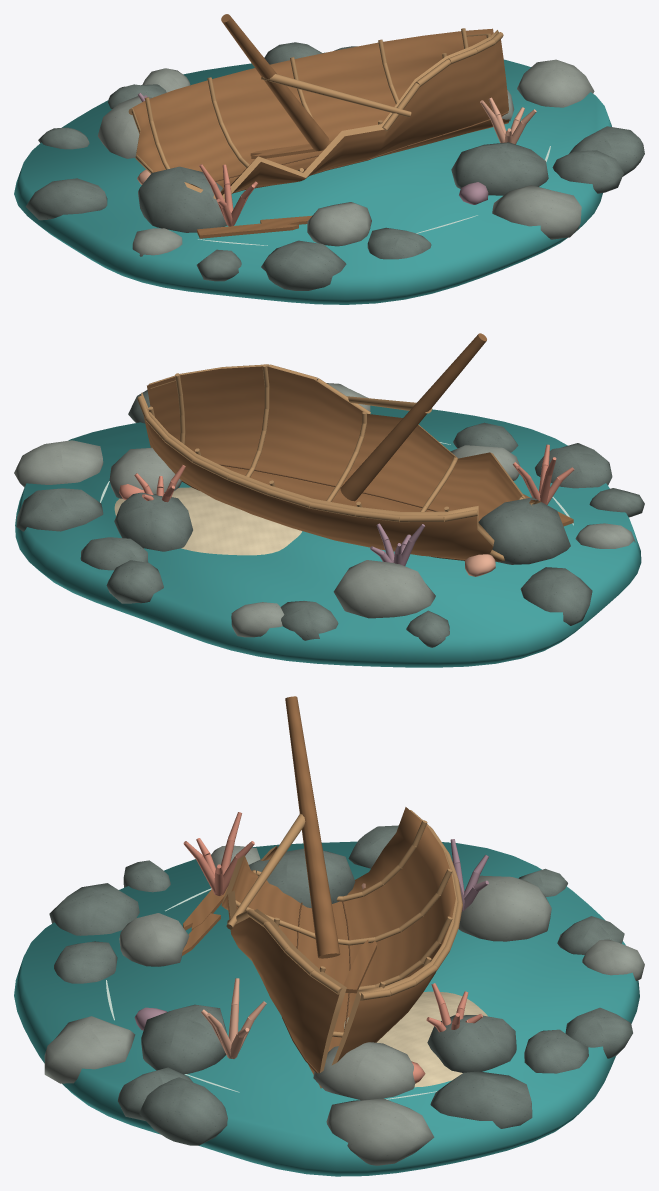
File: shipwreck-reef-v4-lod.fbx
3 renders of one model, top to bottom at view 1: azimuth 30°, elevation 25°; view 2: azimuth 150°, elevation 25°; view 3: azimuth 270°, elevation 25°, orthographic. The views are drawn at different scales.
Visible parts, largest first — view 1: Shipwreck | collectible LOD; view 2: Shipwreck | collectible LOD; view 3: Shipwreck | collectible LOD.
Part boxes in pixels (x1,y1,x2,y2): Shipwreck | collectible LOD: (14, 14, 644, 304); Shipwreck | collectible LOD: (14, 333, 644, 667); Shipwreck | collectible LOD: (14, 696, 644, 1176).
Size of the model in its own units: 172 by 66.88 by 145.
11 materials, 4 textured.
